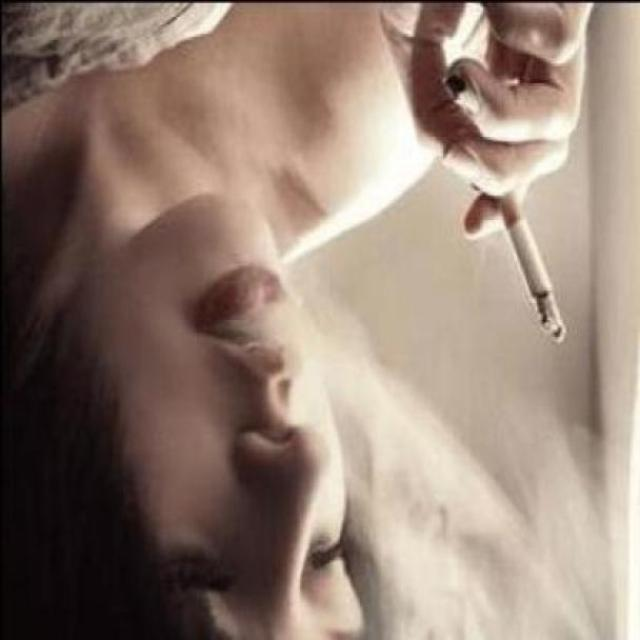rokok: (496, 188, 566, 348)
